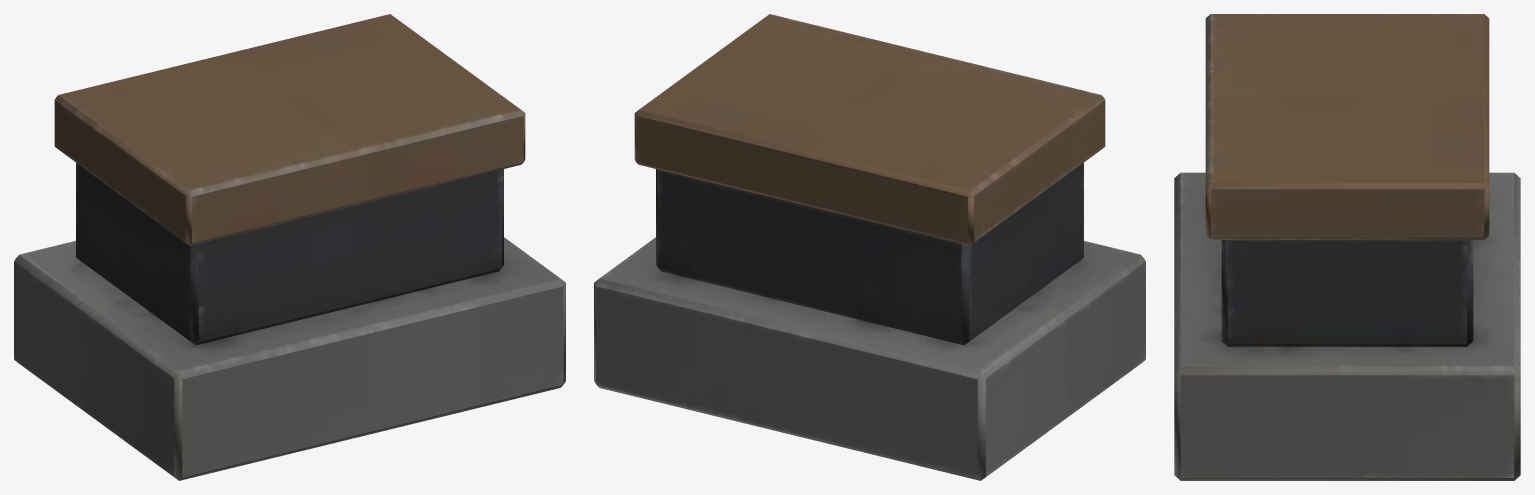
Rendered from keelBlock.glb.
The picture shows the model from 3 angles, left to right: view 1: azimuth 30°, elevation 25°; view 2: azimuth 150°, elevation 25°; view 3: azimuth 270°, elevation 25°; orthographic projection. The views are drawn at different scales.
Parts seen in each view (by area): view 1: keelBlock; view 2: keelBlock; view 3: keelBlock.
Part boxes in pixels (x1,y1,x2,y2): keelBlock: [14, 14, 565, 480]; keelBlock: [594, 14, 1145, 480]; keelBlock: [1174, 14, 1520, 480].
Bounding box in the file's own units: 3 × 2 × 2.2.
1 material, 1 textured.
